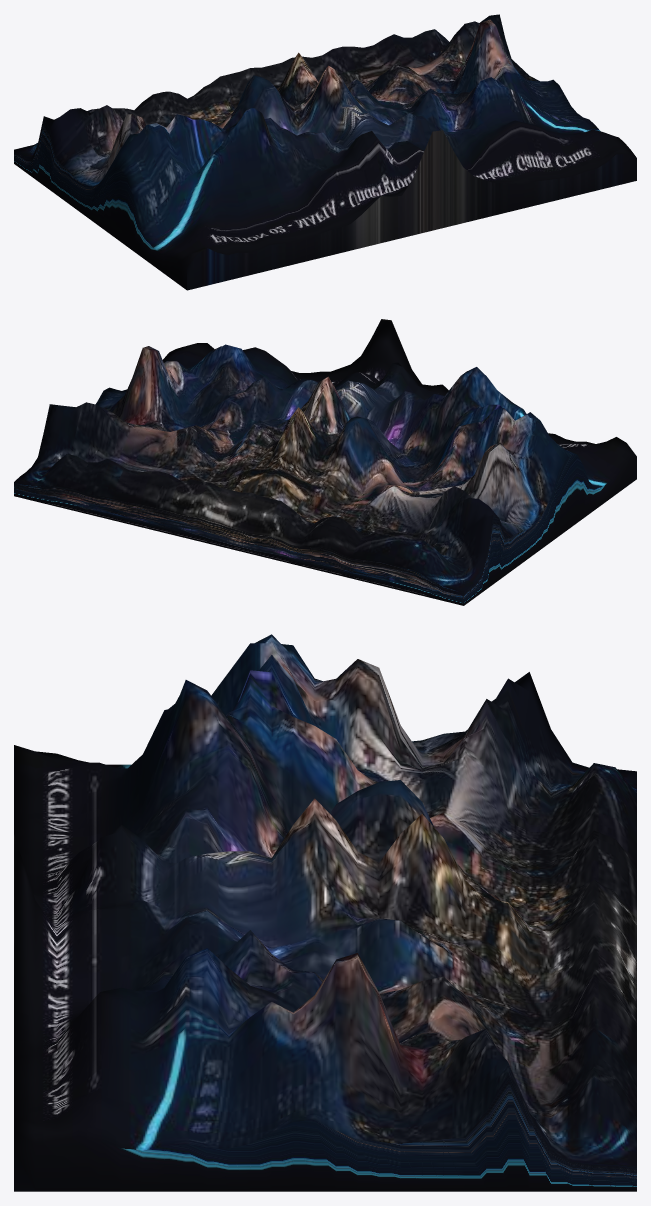
The model's file is FACTION_02_Mafia.glb.
The picture shows the model from 3 angles, top to bottom: view 1: azimuth 30°, elevation 25°; view 2: azimuth 150°, elevation 25°; view 3: azimuth 270°, elevation 25°; orthographic projection. The views are drawn at different scales.
Visible parts, largest first — view 1: FACTION_02_Mafia; view 2: FACTION_02_Mafia; view 3: FACTION_02_Mafia.
Part boxes in pixels (bbox=[...]): FACTION_02_Mafia: bbox=[14, 14, 636, 290]; FACTION_02_Mafia: bbox=[14, 319, 636, 605]; FACTION_02_Mafia: bbox=[14, 634, 636, 1191].
Size of the model in its own units: 2 by 0.51 by 1.33.
1 material, 1 textured.
